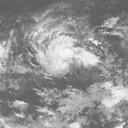cyclone: (24, 17, 100, 79)
